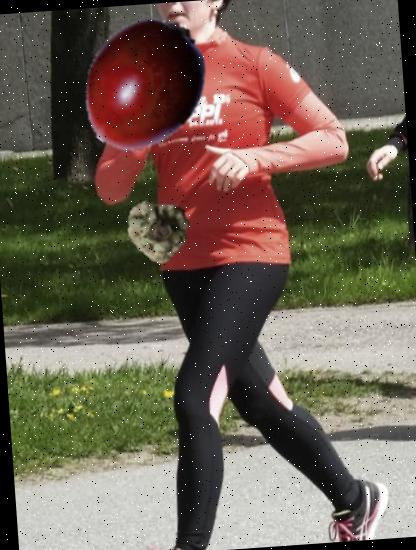Cauliflower: (122, 191, 192, 260)
Tamarillo: (67, 8, 220, 161)
